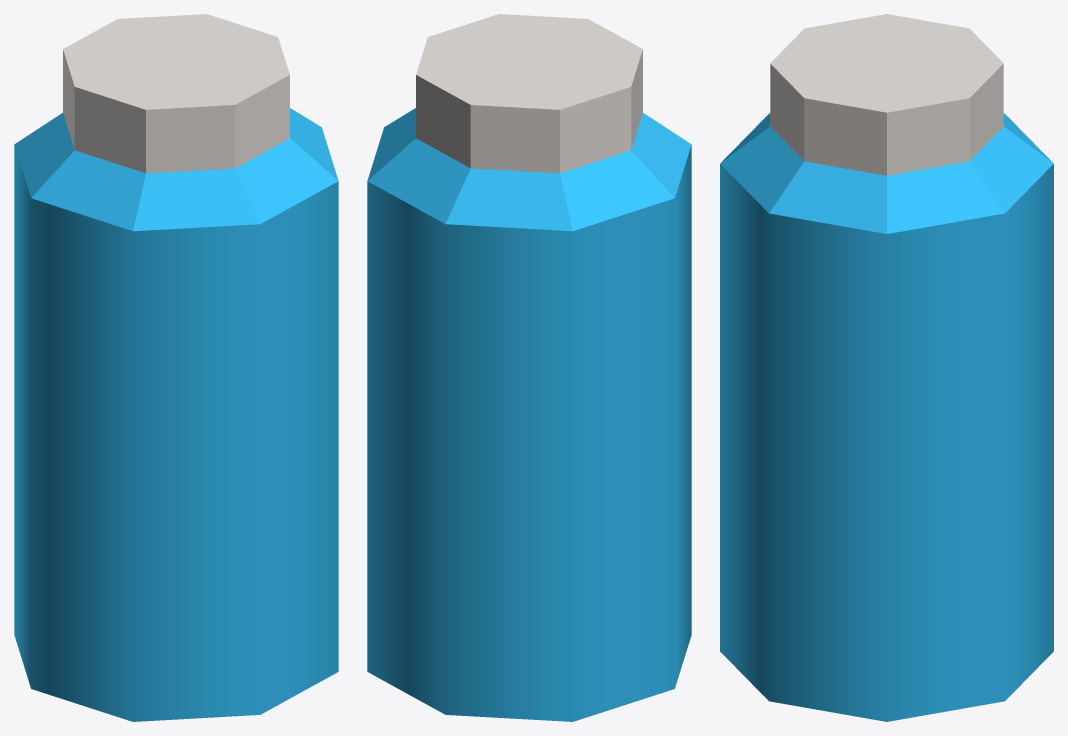
File: SM_salt_01.fbx
3 views of the same model, side by side, from view 1: azimuth 30°, elevation 25°; view 2: azimuth 150°, elevation 25°; view 3: azimuth 270°, elevation 25° (orthographic).
Visible parts, largest first — view 1: salt_01; view 2: salt_01; view 3: salt_01.
Boxes of the visible parts, <box> form: salt_01: <box>14,14,338,721</box>; salt_01: <box>367,14,691,721</box>; salt_01: <box>720,14,1053,721</box>.
Size of the model in its own units: 8.09 by 15.72 by 8.09.
